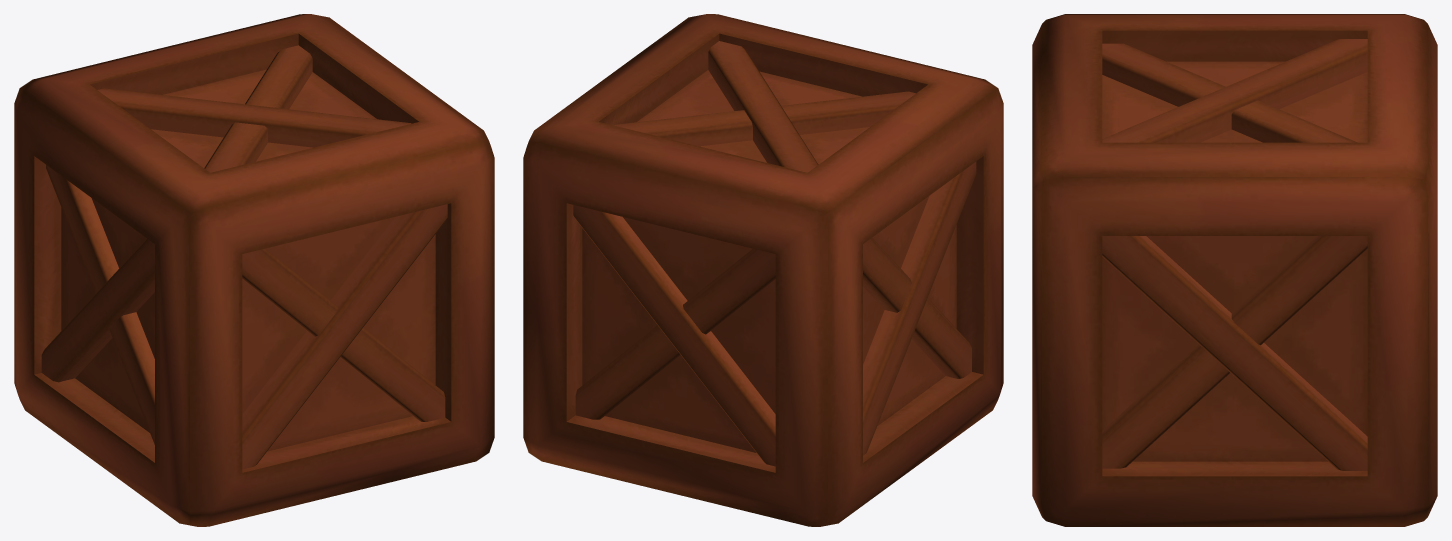
The model's file is caja xd.obj.
3 views of the same model, side by side, from view 1: azimuth 30°, elevation 25°; view 2: azimuth 150°, elevation 25°; view 3: azimuth 270°, elevation 25° (orthographic). The views are drawn at different scales.
Parts seen in each view (by area): view 1: caja; view 2: caja; view 3: caja.
Boxes of the visible parts, x1=… form: caja: x1=14, y1=14, x2=494, y2=526; caja: x1=523, y1=14, x2=1003, y2=526; caja: x1=1032, y1=14, x2=1437, y2=526.
Size of the model in its own units: 1.4 by 1.4 by 1.4.
1 material, 1 textured.
